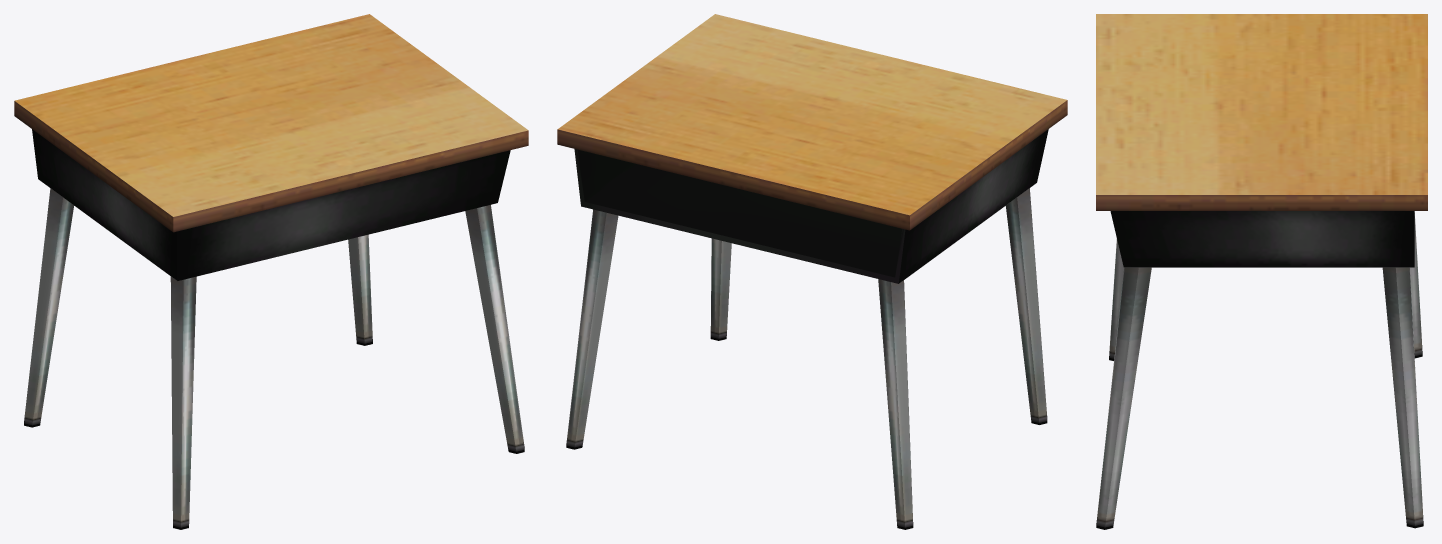
Rendered from desk_classroom.fbx.
3 views of the same model, side by side, from view 1: azimuth 30°, elevation 25°; view 2: azimuth 150°, elevation 25°; view 3: azimuth 270°, elevation 25° (orthographic). The views are drawn at different scales.
Visible parts, largest first — view 1: mesh_0; view 2: mesh_0; view 3: mesh_0.
Boxes of the visible parts, x1=… form: mesh_0: x1=14, y1=14, x2=528, y2=529; mesh_0: x1=557, y1=14, x2=1067, y2=529; mesh_0: x1=1096, y1=14, x2=1427, y2=529.
Size of the model in its own units: 98.58 by 85 by 76.35.
1 material, 1 textured.
